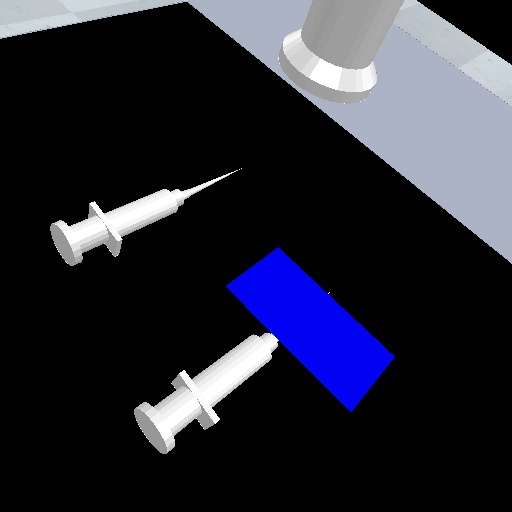jeringuilla: (46, 162, 247, 271), (131, 330, 282, 458)
